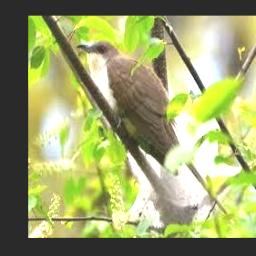Cuckoo: (77, 40, 228, 214)
